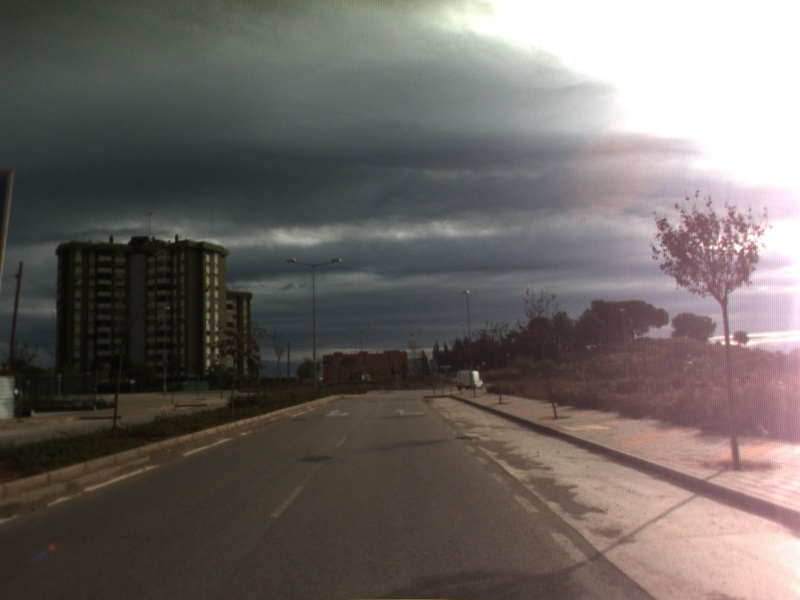STRAIGHT_RIGHT: (393, 407, 426, 418), (324, 407, 351, 419)
